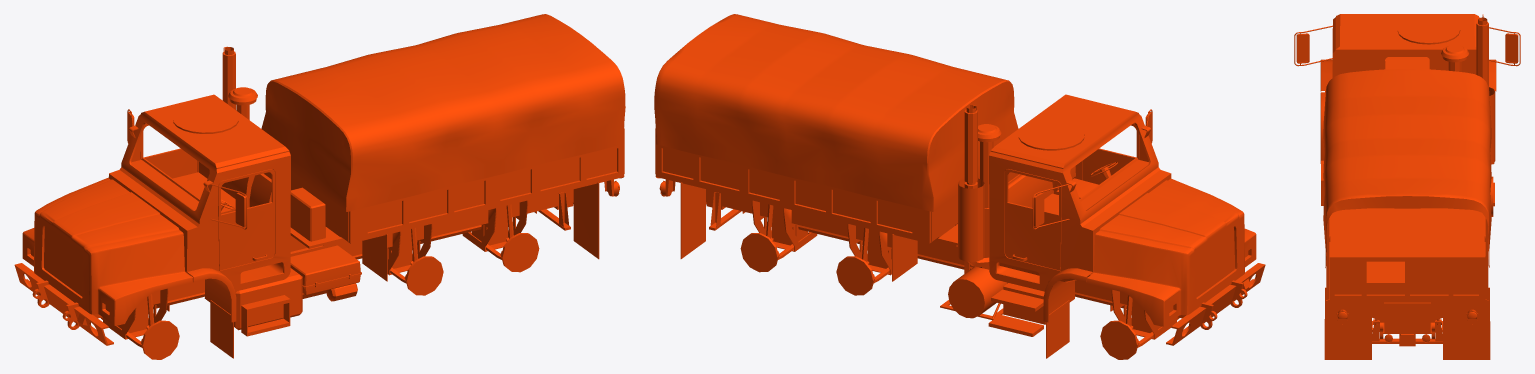
File: truck01.FBX
3 views of the same model, side by side, from view 1: azimuth 30°, elevation 25°; view 2: azimuth 150°, elevation 25°; view 3: azimuth 270°, elevation 25° (orthographic). The views are drawn at different scales.
Visible parts, largest first — view 1: Object023; view 2: Object023; view 3: Object023.
Part boxes in pixels (x1=…): Object023: x1=14, y1=14, x2=625, y2=359; Object023: x1=654, y1=14, x2=1265, y2=359; Object023: x1=1294, y1=14, x2=1520, y2=359.
Size of the model in its own units: 7.48 by 3.09 by 2.89.
